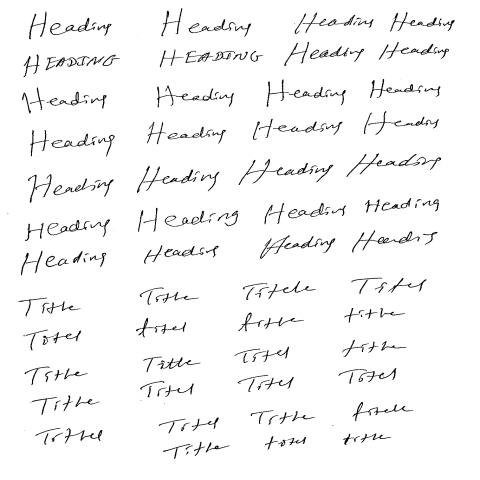Heading: (238, 159, 336, 187), (161, 9, 253, 37), (138, 208, 240, 233), (28, 175, 115, 204), (23, 54, 121, 79), (347, 153, 443, 178), (137, 167, 221, 195), (29, 12, 112, 40), (22, 88, 108, 115), (30, 130, 116, 157), (266, 80, 347, 108), (20, 251, 107, 277), (252, 119, 344, 142), (25, 219, 112, 242), (285, 42, 365, 67), (352, 231, 438, 254), (160, 50, 263, 69), (263, 202, 347, 225), (260, 235, 337, 260), (363, 112, 440, 136), (147, 123, 227, 146), (295, 13, 375, 35), (156, 86, 235, 108), (144, 245, 219, 266), (389, 12, 457, 33), (370, 79, 444, 98), (242, 282, 315, 301), (351, 277, 428, 295), (22, 330, 84, 352), (238, 313, 305, 333), (31, 397, 100, 416), (17, 297, 82, 317), (379, 43, 451, 61), (353, 402, 414, 423), (163, 443, 230, 462), (35, 429, 105, 447), (342, 340, 407, 359), (25, 367, 88, 386), (138, 288, 202, 306), (134, 318, 188, 339), (365, 199, 440, 214), (157, 417, 220, 434), (343, 307, 406, 324), (339, 368, 399, 385), (139, 382, 195, 400), (142, 356, 201, 373), (251, 411, 317, 426), (239, 376, 294, 394), (234, 347, 291, 364), (343, 433, 394, 446), (264, 436, 308, 451)
